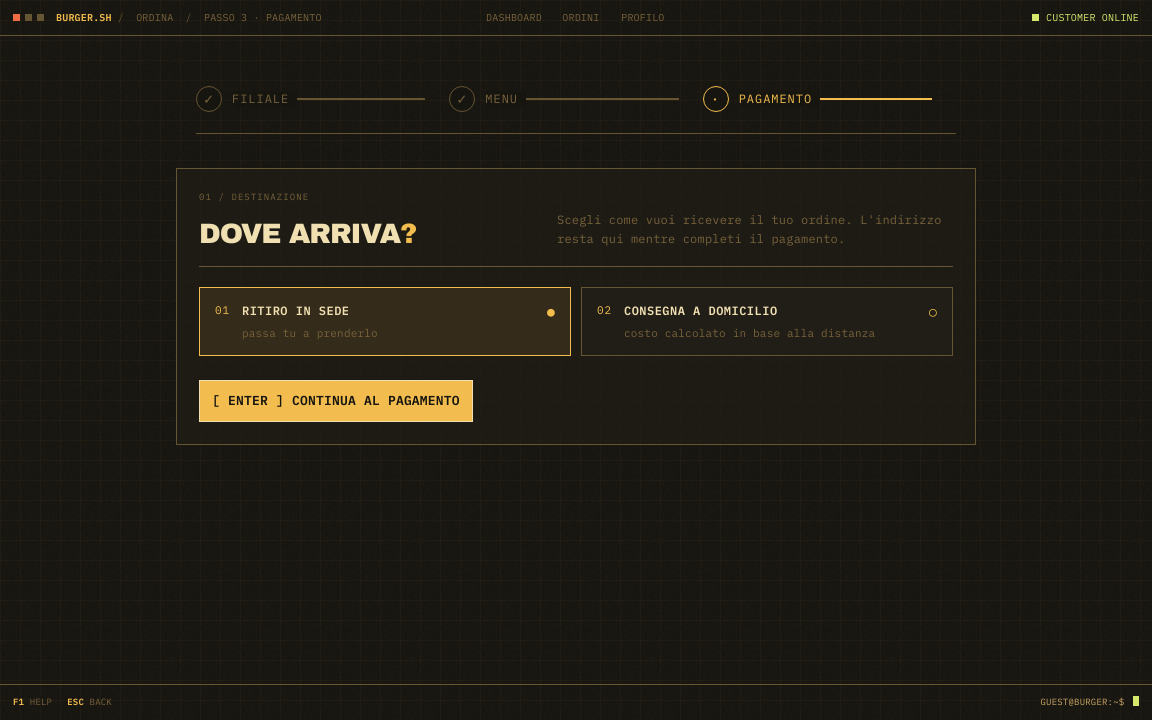
it: OrderPaymentPage › permette di usare un indirizzo salvato o inserirne uno nuovo
Expected: the heading "DOVE ARRIVA?" is shown, [199,218,416,249]
Click the radio button labelled "CONSEGNA A DOMICILIO" at (701,311), box [581,287,953,356]
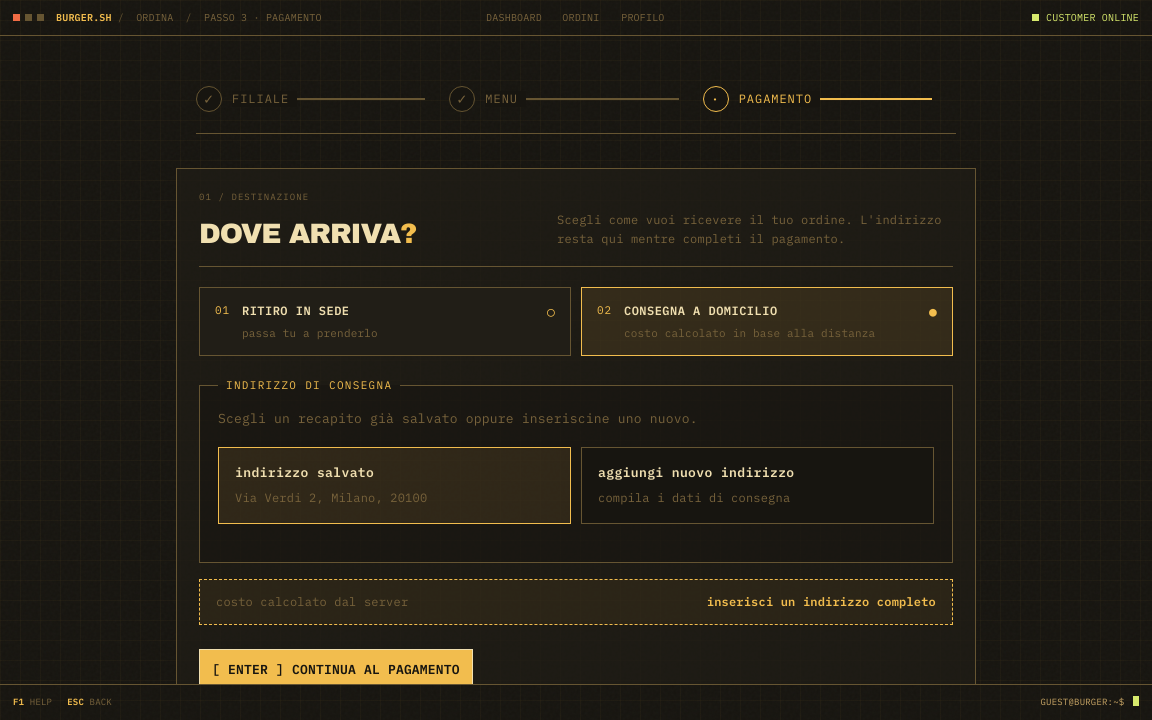
Expected: the field labelled "via e numero" is not shown
Expected: the tab "indirizzo salvato Via Verdi 2, Milano, 20100" is shown, [218,447,571,524]
Click the tab "aggiungi nuovo indirizzo compila i dati di consegna" at (696,472), box [581,447,934,524]
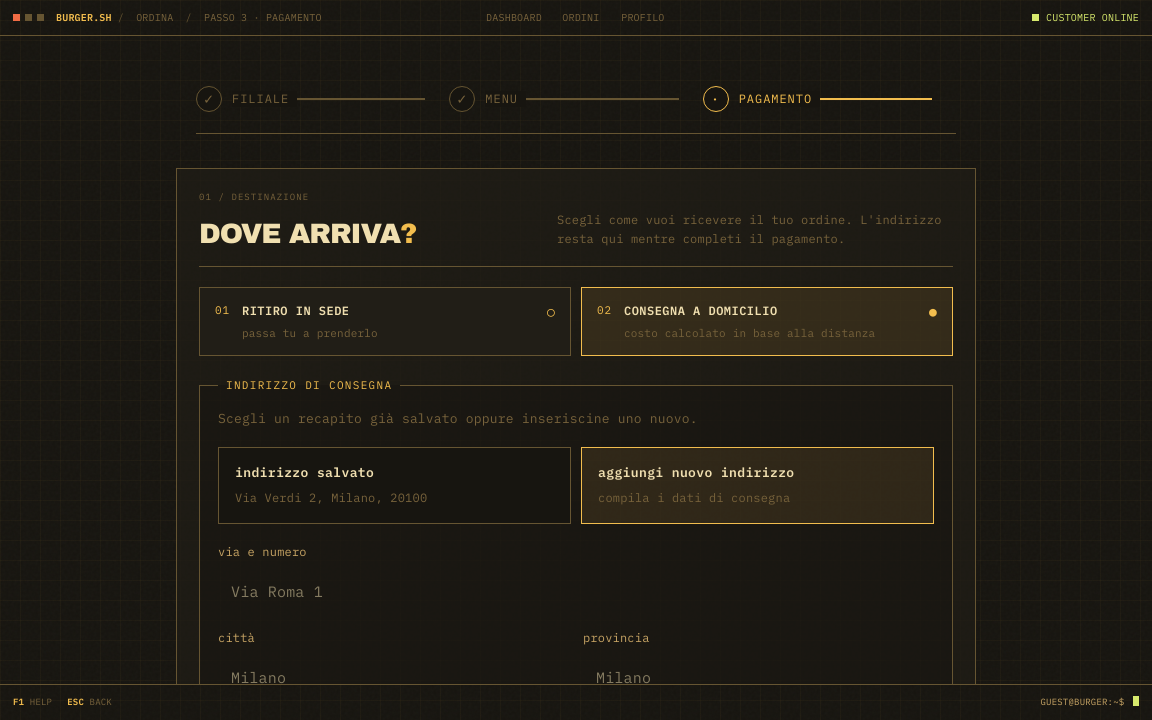
Expected: the field labelled "via e numero" is shown, [218,568,934,616]
